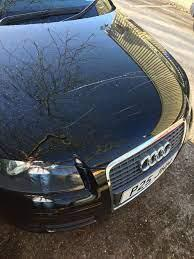bonnet-dent: (0, 42, 184, 183)
front-bumper-dent: (1, 165, 139, 234)
